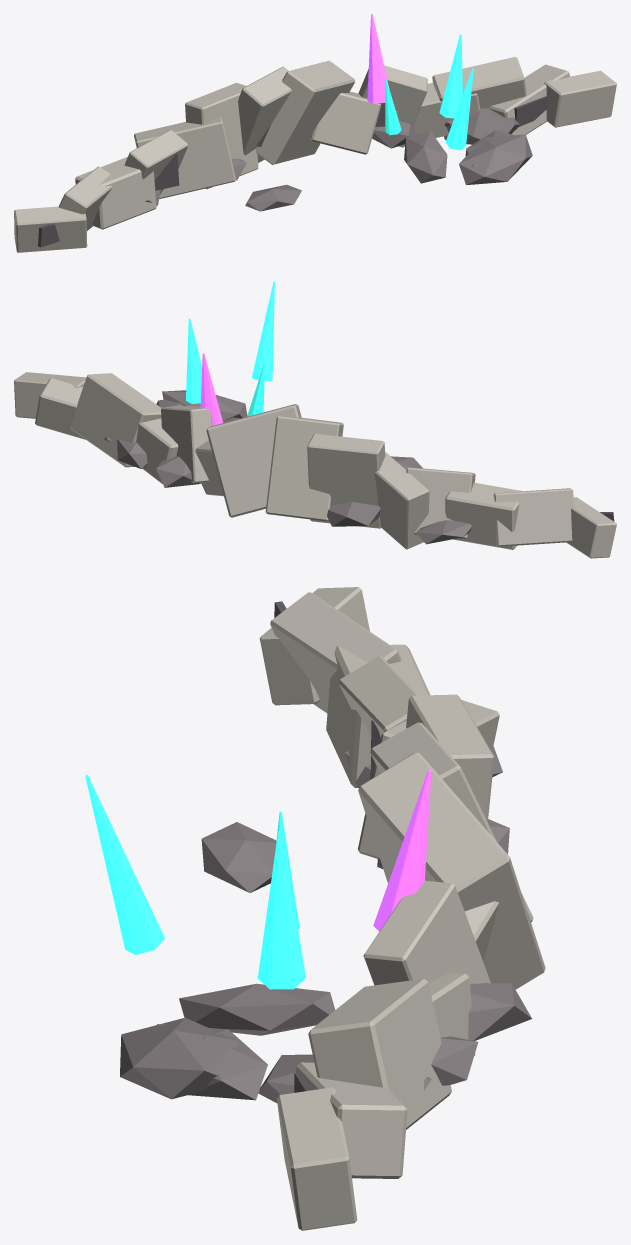
The model's file is runtime.glb.
3 renders of one model, top to bottom at view 1: azimuth 30°, elevation 25°; view 2: azimuth 150°, elevation 25°; view 3: azimuth 270°, elevation 25°, orthographic. The views are drawn at different scales.
Visible parts, largest first — view 1: crystal-ruins-rubble-cluster-v03_stone_07_nocol, crystal-ruins-rubble-cluster-v03_stone_04_nocol, crystal-ruins-rubble-cluster-v03_stone_13_nocol, crystal-ruins-rubble-cluster-v03_stone_02_nocol, crystal-ruins-rubble-cluster-v03_stone_08_nocol, crystal-ruins-rubble-cluster-v03_stone_06_nocol, crystal-ruins-rubble-cluster-v03_deposit_04_nocol, crystal-ruins-rubble-cluster-v03_stone_00_nocol, crystal-ruins-rubble-cluster-v03_stone_11_nocol, crystal-ruins-rubble-cluster-v03_stone_05_nocol, crystal-ruins-rubble-cluster-v03_stone_09_nocol, crystal-ruins-rubble-cluster-v03_stone_03_nocol (+14 smaller); view 2: crystal-ruins-rubble-cluster-v03_stone_07_nocol, crystal-ruins-rubble-cluster-v03_stone_06_nocol, crystal-ruins-rubble-cluster-v03_stone_05_nocol, crystal-ruins-rubble-cluster-v03_stone_11_nocol, crystal-ruins-rubble-cluster-v03_stone_01_nocol, crystal-ruins-rubble-cluster-v03_stone_04_nocol, crystal-ruins-rubble-cluster-v03_stone_02_nocol, crystal-ruins-rubble-cluster-v03_stone_09_nocol, crystal-ruins-rubble-cluster-v03_stone_00_nocol, crystal-ruins-rubble-cluster-v03_stone_03_nocol, crystal-ruins-rubble-cluster-v03_stone_12_nocol, crystal-ruins-rubble-cluster-v03_stone_13_nocol (+11 smaller); view 3: crystal-ruins-rubble-cluster-v03_stone_07_nocol, crystal-ruins-rubble-cluster-v03_stone_11_nocol, crystal-ruins-rubble-cluster-v03_stone_09_nocol, crystal-ruins-rubble-cluster-v03_stone_13_nocol, crystal-ruins-rubble-cluster-v03_deposit_04_nocol, crystal-ruins-rubble-cluster-v03_stone_12_nocol, crystal-ruins-rubble-cluster-v03_stone_01_nocol, crystal-ruins-rubble-cluster-v03_deposit_02_nocol, crystal-ruins-rubble-cluster-v03_stone_05_nocol, crystal-ruins-rubble-cluster-v03_stone_02_nocol, crystal-ruins-rubble-cluster-v03_crystal_03_nocol, crystal-ruins-rubble-cluster-v03_crystal_00_nocol (+12 smaller).
Boxes of the visible parts, x1=… form: crystal-ruins-rubble-cluster-v03_stone_07_nocol: x1=256, y1=60, x2=355, y2=164; crystal-ruins-rubble-cluster-v03_stone_04_nocol: x1=134, y1=116, x2=235, y2=198; crystal-ruins-rubble-cluster-v03_stone_13_nocol: x1=544, y1=70, x2=616, y2=127; crystal-ruins-rubble-cluster-v03_stone_02_nocol: x1=75, y1=157, x2=156, y2=229; crystal-ruins-rubble-cluster-v03_stone_08_nocol: x1=310, y1=91, x2=381, y2=154; crystal-ruins-rubble-cluster-v03_stone_06_nocol: x1=238, y1=66, x2=291, y2=162; crystal-ruins-rubble-cluster-v03_deposit_04_nocol: x1=459, y1=134, x2=532, y2=184; crystal-ruins-rubble-cluster-v03_stone_00_nocol: x1=14, y1=206, x2=87, y2=252; crystal-ruins-rubble-cluster-v03_stone_11_nocol: x1=432, y1=57, x2=526, y2=139; crystal-ruins-rubble-cluster-v03_stone_05_nocol: x1=185, y1=82, x2=258, y2=189; crystal-ruins-rubble-cluster-v03_stone_09_nocol: x1=358, y1=65, x2=427, y2=147; crystal-ruins-rubble-cluster-v03_stone_03_nocol: x1=124, y1=130, x2=188, y2=194; crystal-ruins-rubble-cluster-v03_stone_07_nocol: x1=206, y1=404, x2=301, y2=517; crystal-ruins-rubble-cluster-v03_stone_06_nocol: x1=265, y1=416, x2=343, y2=521; crystal-ruins-rubble-cluster-v03_stone_05_nocol: x1=307, y1=434, x2=385, y2=528; crystal-ruins-rubble-cluster-v03_stone_11_nocol: x1=70, y1=373, x2=161, y2=467; crystal-ruins-rubble-cluster-v03_stone_01_nocol: x1=493, y1=488, x2=574, y2=546; crystal-ruins-rubble-cluster-v03_stone_04_nocol: x1=374, y1=451, x2=429, y2=549; crystal-ruins-rubble-cluster-v03_stone_02_nocol: x1=445, y1=482, x2=523, y2=549; crystal-ruins-rubble-cluster-v03_stone_09_nocol: x1=161, y1=405, x2=212, y2=482; crystal-ruins-rubble-cluster-v03_stone_00_nocol: x1=566, y1=497, x2=616, y2=558; crystal-ruins-rubble-cluster-v03_stone_03_nocol: x1=406, y1=467, x2=475, y2=538; crystal-ruins-rubble-cluster-v03_stone_12_nocol: x1=35, y1=378, x2=85, y2=439; crystal-ruins-rubble-cluster-v03_stone_13_nocol: x1=14, y1=372, x2=86, y2=418; crystal-ruins-rubble-cluster-v03_stone_07_nocol: x1=358, y1=752, x2=545, y2=989; crystal-ruins-rubble-cluster-v03_stone_11_nocol: x1=308, y1=978, x2=451, y2=1129; crystal-ruins-rubble-cluster-v03_stone_09_nocol: x1=363, y1=880, x2=490, y2=985; crystal-ruins-rubble-cluster-v03_stone_13_nocol: x1=276, y1=1087, x2=357, y2=1230; crystal-ruins-rubble-cluster-v03_deposit_04_nocol: x1=120, y1=1017, x2=236, y2=1099; crystal-ruins-rubble-cluster-v03_stone_12_nocol: x1=296, y1=1062, x2=407, y2=1178; crystal-ruins-rubble-cluster-v03_stone_01_nocol: x1=270, y1=592, x2=401, y2=712; crystal-ruins-rubble-cluster-v03_deposit_02_nocol: x1=179, y1=983, x2=335, y2=1035; crystal-ruins-rubble-cluster-v03_stone_05_nocol: x1=406, y1=694, x2=494, y2=822; crystal-ruins-rubble-cluster-v03_stone_02_nocol: x1=326, y1=644, x2=430, y2=787; crystal-ruins-rubble-cluster-v03_crystal_03_nocol: x1=85, y1=775, x2=164, y2=954; crystal-ruins-rubble-cluster-v03_crystal_00_nocol: x1=257, y1=830, x2=305, y2=989.
Bounding box in the file's own units: 10.41 × 2.43 × 3.49.
